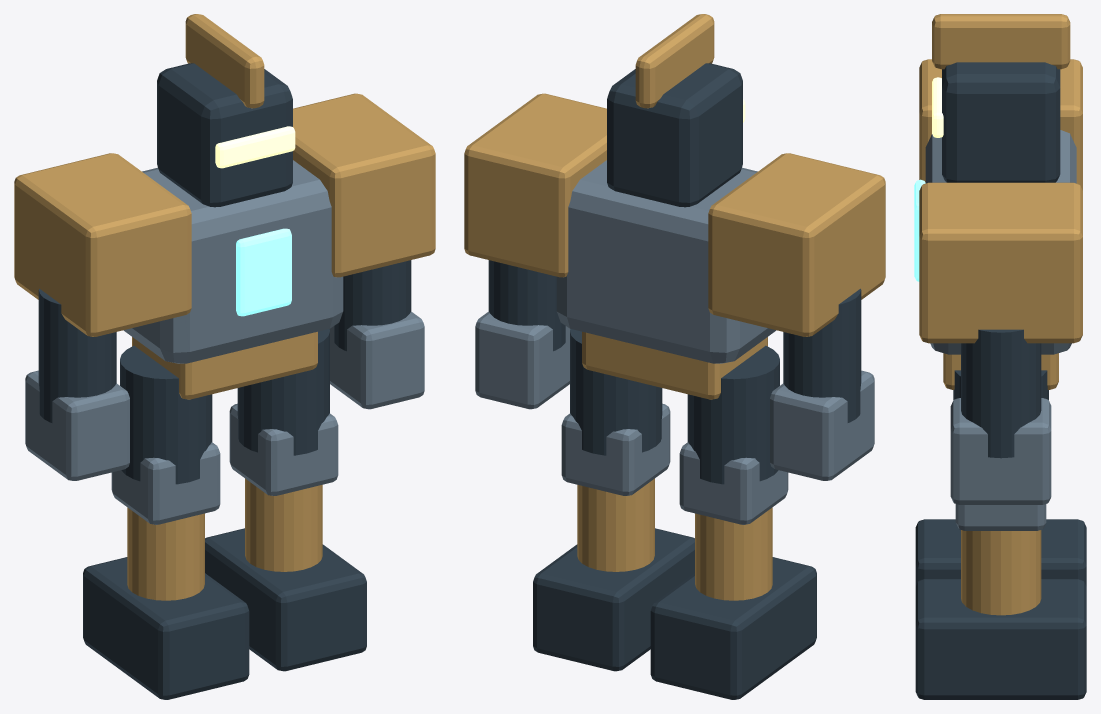
Rendered from SM_Sentry.fbx.
3 views of the same model, side by side, from view 1: azimuth 30°, elevation 25°; view 2: azimuth 150°, elevation 25°; view 3: azimuth 270°, elevation 25° (orthographic). The views are drawn at different scales.
Visible parts, largest first — view 1: SM_Sentry; view 2: SM_Sentry; view 3: SM_Sentry.
Part boxes in pixels (box(x1,y1,x2,y2)): SM_Sentry: box(14, 14, 435, 699); SM_Sentry: box(464, 14, 885, 699); SM_Sentry: box(914, 14, 1086, 699).
Bounding box in the file's own units: 172 × 68.5 × 279.
